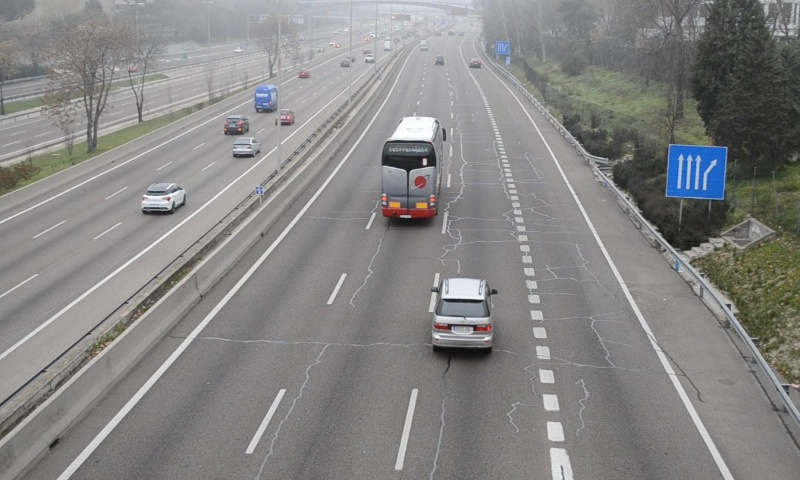bus: (382, 116, 444, 222)
car: (430, 277, 495, 349)
